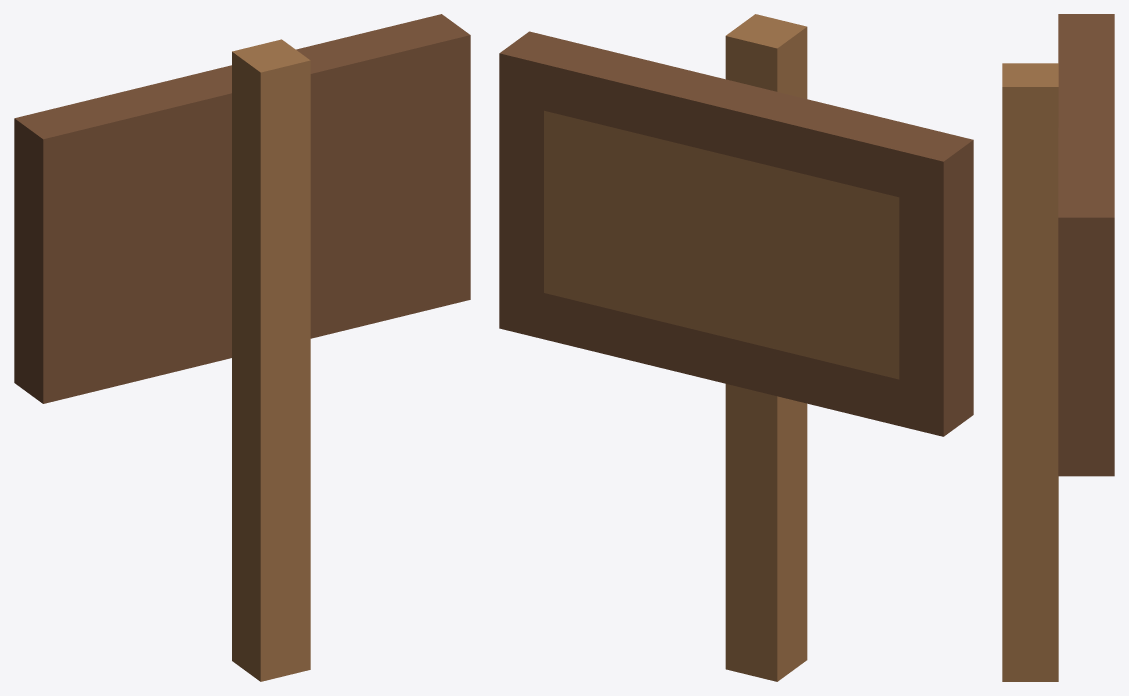
File: sign.glb
3 renders of one model, left to right at view 1: azimuth 30°, elevation 25°; view 2: azimuth 150°, elevation 25°; view 3: azimuth 270°, elevation 25°, orthographic. The views are drawn at different scales.
Visible parts, largest first — view 1: sign; view 2: sign; view 3: sign.
Part boxes in pixels (box(x1,y1,x2,y2)): sign: box(14, 14, 470, 681); sign: box(499, 14, 973, 681); sign: box(1002, 14, 1114, 681).
Size of the model in its own units: 0.3 by 0.4088 by 0.07.
